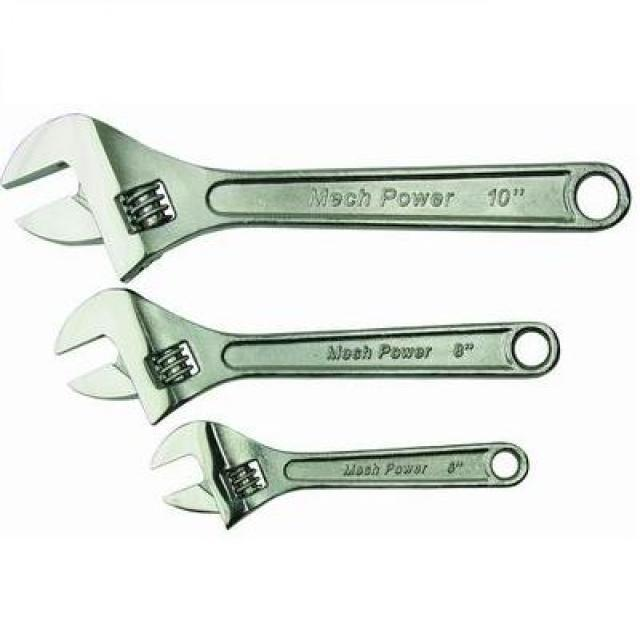wrench: (0, 110, 640, 282), (46, 286, 564, 426), (142, 418, 533, 532)
